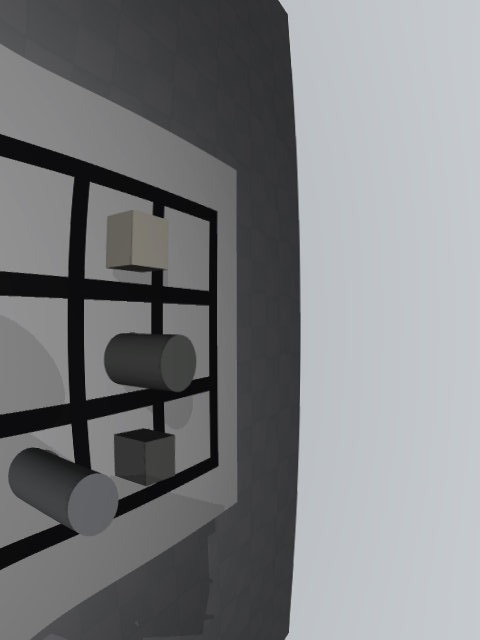can: (8, 447, 119, 537)
cube: (114, 429, 175, 486)
cylinder: (104, 333, 196, 392)
foam: (106, 210, 169, 273)
